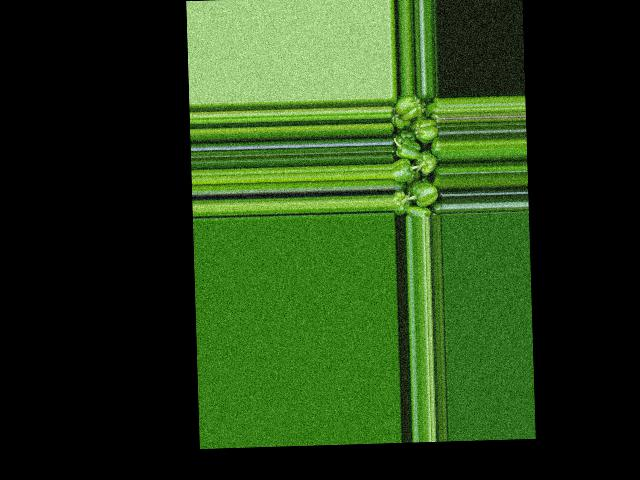bell_pepper: (391, 93, 442, 216)
